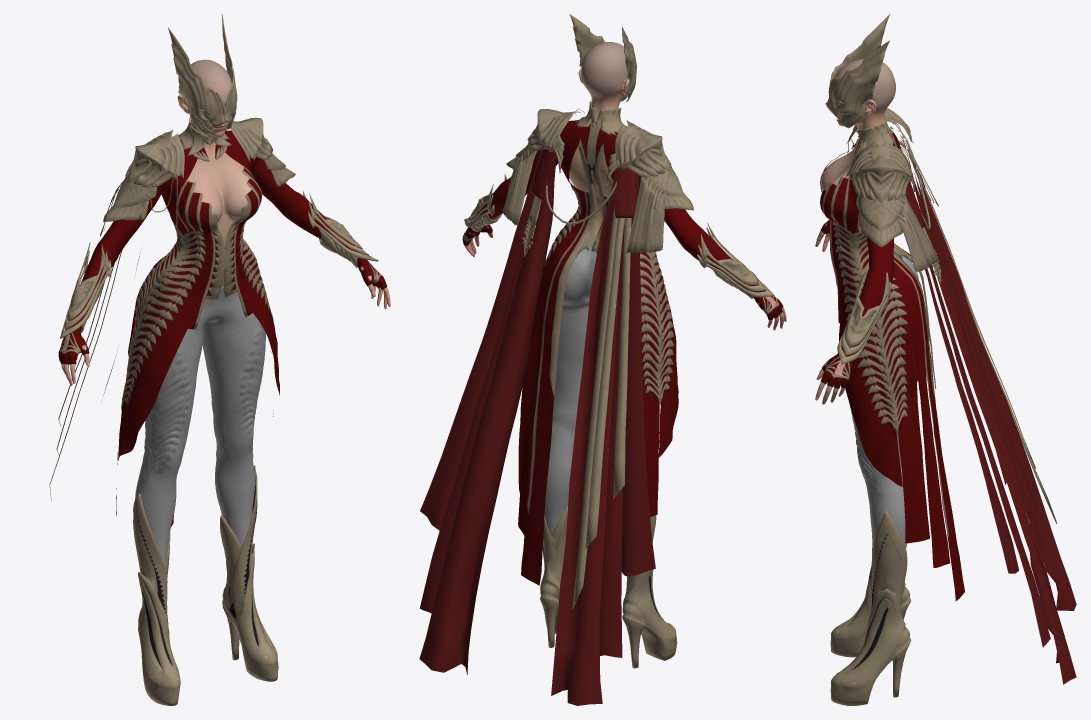
The picture shows the model from 3 angles, left to right: view 1: azimuth 30°, elevation 25°; view 2: azimuth 150°, elevation 25°; view 3: azimuth 270°, elevation 25°; orthographic projection. The views are drawn at different scales.
Visible parts, largest first — view 1: GF_0031_T05_Body, GF_0031_T05_Pants, GF_0031_T05_Boots, GF_0031_T05_Shoulder, GF_0031_T05_Glove, GF_0031_T05_Helmet, GF_BaseHead, GF_0031_T05_Cape; view 2: GF_0031_T05_Cape, GF_0031_T05_Body, GF_0031_T05_Shoulder, GF_0031_T05_Pants, GF_0031_T05_Boots, GF_0031_T05_Glove, GF_BaseHead, GF_0031_T05_Helmet; view 3: GF_0031_T05_Body, GF_0031_T05_Cape, GF_0031_T05_Boots, GF_0031_T05_Shoulder, GF_0031_T05_Helmet, GF_0031_T05_Glove, GF_0031_T05_Pants, GF_BaseHead.
Boxes of the visible parts, x1,y1,x2,y2 form: GF_0031_T05_Body: (61,117,390,515); GF_0031_T05_Pants: (135,286,266,679); GF_0031_T05_Boots: (133,465,278,705); GF_0031_T05_Shoulder: (99,117,295,236); GF_0031_T05_Glove: (58,190,387,364); GF_0031_T05_Helmet: (168,14,237,134); GF_BaseHead: (177,59,236,147); GF_0031_T05_Cape: (49,250,173,526); GF_0031_T05_Cape: (419,136,655,705); GF_0031_T05_Body: (465,101,786,585); GF_0031_T05_Shoulder: (502,108,693,253); GF_0031_T05_Pants: (541,241,674,635); GF_0031_T05_Boots: (540,506,677,668); GF_0031_T05_Glove: (462,174,783,320); GF_BaseHead: (578,42,629,118); GF_0031_T05_Helmet: (569,14,636,101); GF_0031_T05_Body: (815,115,964,601); GF_0031_T05_Cape: (892,122,1076,684); GF_0031_T05_Boots: (830,510,910,705); GF_0031_T05_Shoulder: (846,108,938,271); GF_0031_T05_Helmet: (825,14,890,128); GF_0031_T05_Glove: (820,219,891,388); GF_0031_T05_Pants: (836,255,918,684); GF_BaseHead: (836,58,895,129).
Size of the model in its own units: 1.03 by 1.98 by 0.7209.
Materials: 10 (9 with a texture image).
